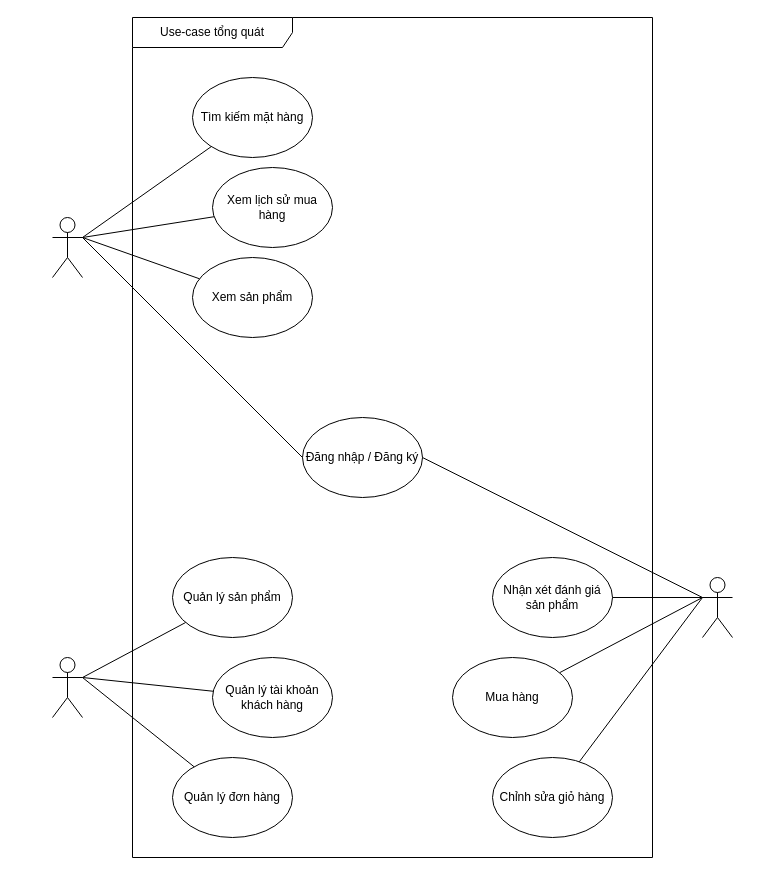
This 766x875 diagram has some shape labels left out. Here are the shapes that lost their labels. From the top down, the box of each, then its label:
(52, 216, 82, 278): Người dùng chung
(702, 576, 732, 638): Khách hàng
(52, 656, 82, 718): Quản trị viên
